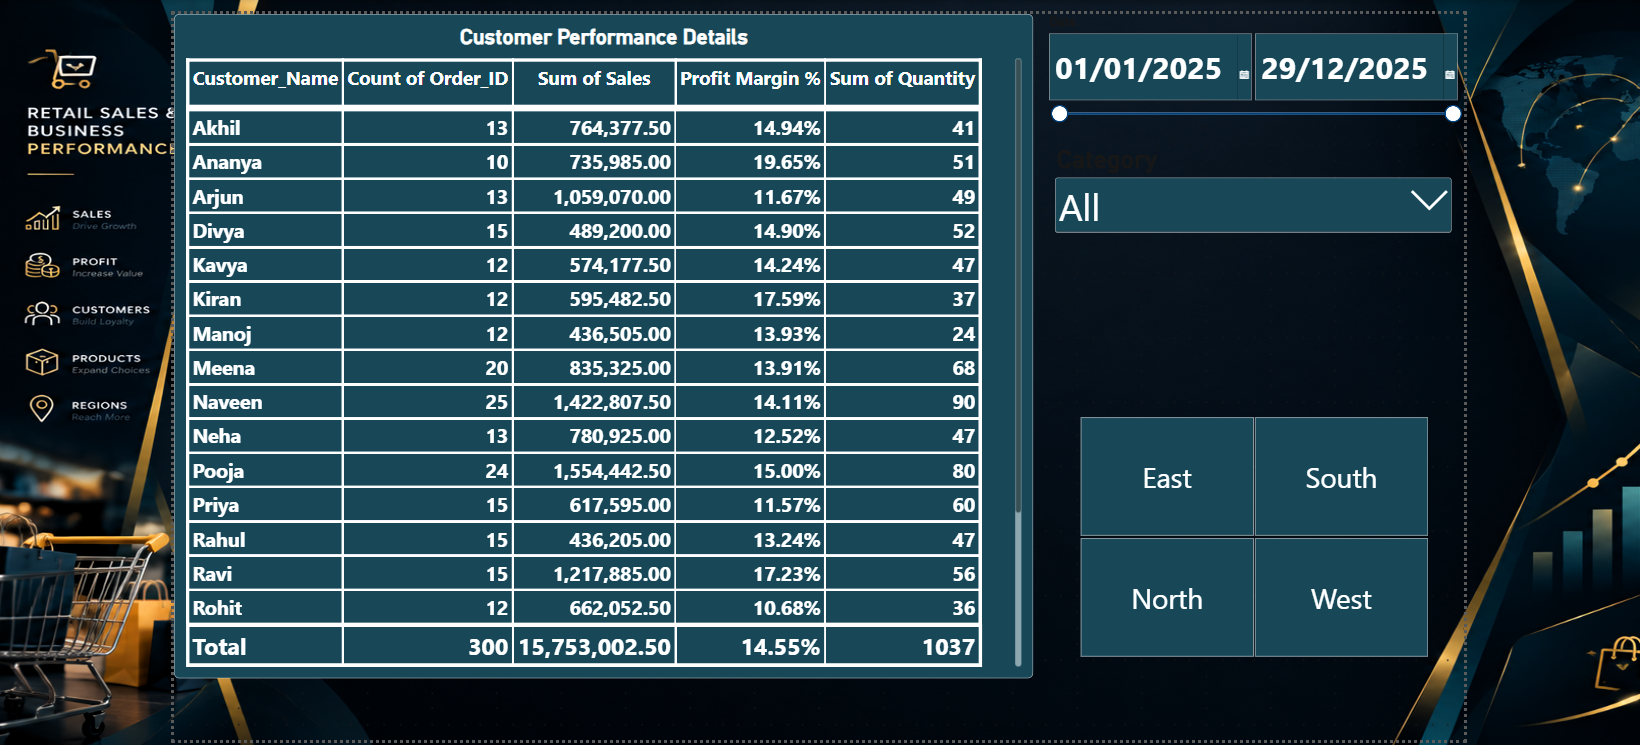

The page's visual inventory and layout, read from the dashboard file:
{"tool":"powerbi","page":{"name":"Page 4","canvas":[1920,1080],"ordinal":3},"visuals":[{"type":"tableEx","title":"Customer Performance Details","fields":{"Values":["Sales_Data.Customer_Name","Sales_Data.Order_ID","Sum(Sales_Data.Sales)","Sales_Data.Profit Margin %","Sum(Sales_Data.Quantity)"]},"box":[0,0,1278.5,988.4],"z":0},{"type":"slicer","fields":{"Values":["Sales_Data.Order_Date"]},"box":[1294.8,0,625.2,194.5],"z":1},{"type":"slicer","fields":{"Values":["Sales_Data.Region"]},"box":[1329.2,598.2,556.8,360],"z":2},{"type":"slicer","fields":{"Values":["Sales_Data.Category"]},"box":[1307.1,194.5,600,360],"z":3}]}

Visuals, with their boxes on the page's 1920x1080 design canvas (x1, y1, x2, y2). These are canvas units, not pixel positions in the 1640x745 screenshot, which may show the page scaled, cropped or inside an application window:
"Customer Performance Details" tableEx: 0/0/1278/988
slicer - Sales_Data.Order_Date: 1295/0/1920/194
slicer - Sales_Data.Region: 1329/598/1886/958
slicer - Sales_Data.Category: 1307/194/1907/554
